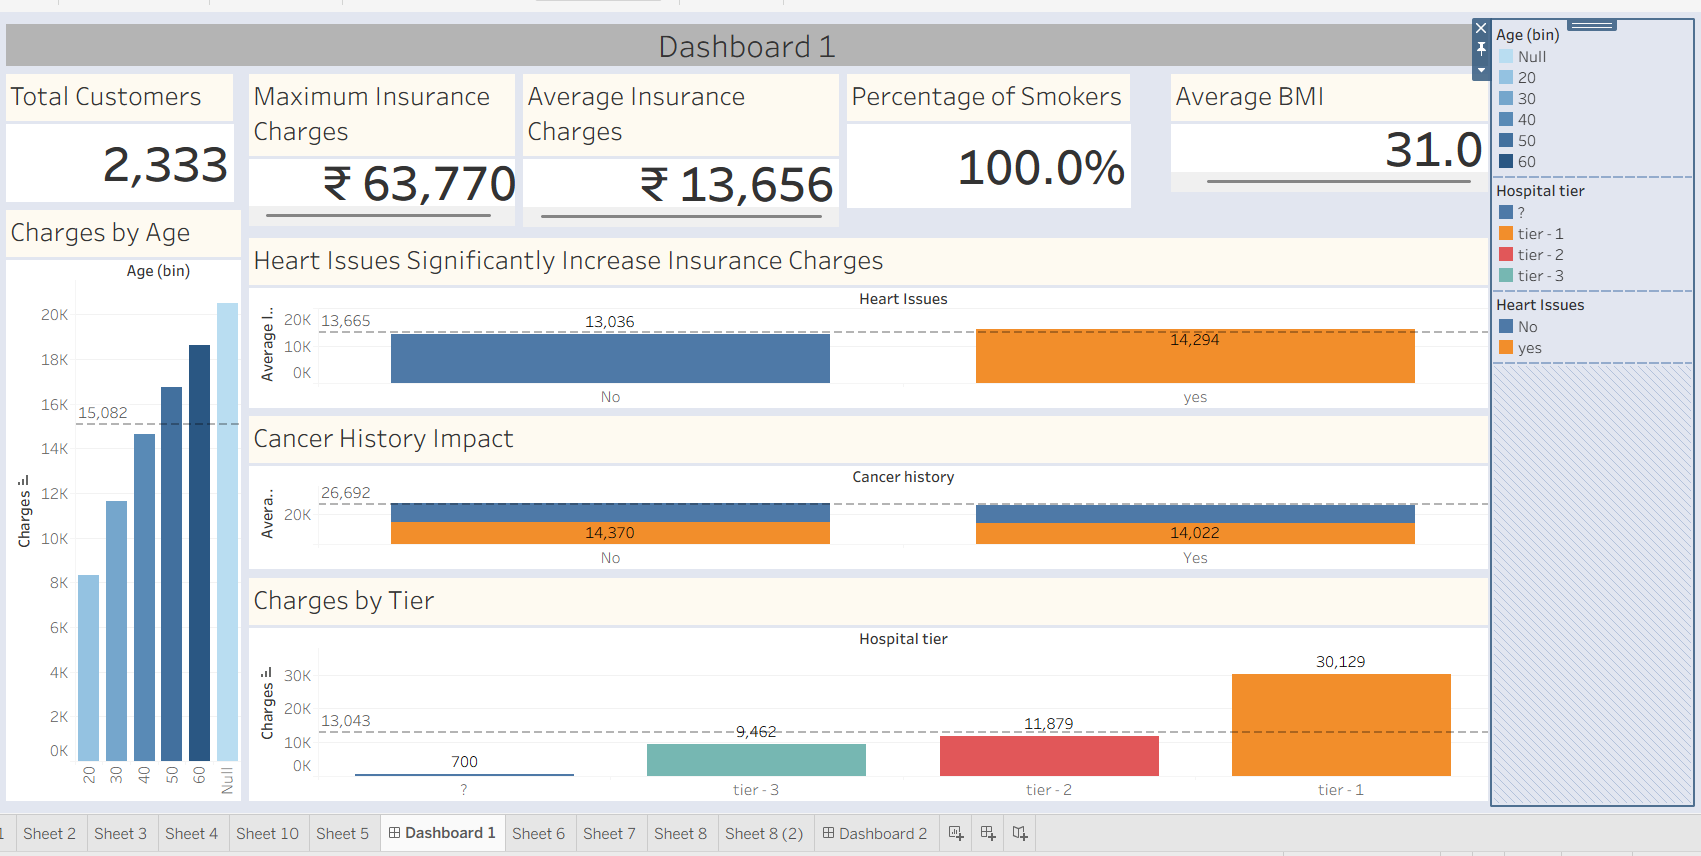

The dashboard page shown, as its layout file describes it:
{"tool":"tableau","page":{"name":"Dashboard 1","canvas":[1000,1000],"units":"permille","ordinal":0},"visuals":[{"type":"title","box":[4.7,10,872.9,62.4]},{"type":"legend","title":"Sheet 6","param":"[federated.15nydx51wglzql12eo1kz03ujucb].[none:Age (bin):ok]","box":[877.6,10,117.8,194.8]},{"type":"worksheet","title":"Sheet 1","mark":"Automatic","box":[4.7,72.4,167,169.8]},{"type":"worksheet","title":"Sheet 3","mark":"Automatic","box":[171.7,72.4,203.3,204.7]},{"type":"worksheet","title":"Sheet 2","mark":"Automatic","box":[374.9,72.4,251.3,204.7]},{"type":"worksheet","title":"Sheet 5","mark":"Automatic","box":[626.2,72.4,251.3,204.7]},{"type":"legend","title":"Sheet 7","param":"[federated.15nydx51wglzql12eo1kz03ujucb].[none:Hospital tier:nk]","box":[877.6,204.8,117.8,142.3]},{"type":"worksheet","title":"Sheet 6","mark":"Bar","rows":["charges"],"cols":["Age (bin)"],"box":[4.7,242.2,167,747.8]},{"type":"worksheet","title":"Sheet 8","mark":"Bar","rows":["charges"],"cols":["Heart Issues"],"box":[171.7,277.2,705.9,222.2]},{"type":"legend","title":"Sheet 8","param":"[federated.15nydx51wglzql12eo1kz03ujucb].[none:Heart Issues:nk]","box":[877.6,347.1,117.8,89.9]},{"type":"worksheet","title":"Sheet 8 (2)","mark":"Bar","rows":["charges"],"cols":["Cancer history"],"box":[171.7,499.4,705.9,202.2]},{"type":"worksheet","title":"Sheet 7","mark":"Bar","rows":["charges"],"cols":["Hospital tier"],"box":[171.7,701.6,705.9,288.4]}]}

Visuals, with their boxes on the dashboard's canvas, which has no fixed pixel size, in thousandths of its width and height (x1, y1, x2, y2). These are canvas units, not pixel positions in the 1701x856 screenshot, which may show the page scaled, cropped or inside an application window:
title: x1=5, y1=10, x2=878, y2=72
"Sheet 6" legend: x1=878, y1=10, x2=995, y2=205
"Sheet 1" worksheet: x1=5, y1=72, x2=172, y2=242
"Sheet 3" worksheet: x1=172, y1=72, x2=375, y2=277
"Sheet 2" worksheet: x1=375, y1=72, x2=626, y2=277
"Sheet 5" worksheet: x1=626, y1=72, x2=878, y2=277
"Sheet 7" legend: x1=878, y1=205, x2=995, y2=347
"Sheet 6" worksheet (Bar marks): x1=5, y1=242, x2=172, y2=990
"Sheet 8" worksheet (Bar marks): x1=172, y1=277, x2=878, y2=499
"Sheet 8" legend: x1=878, y1=347, x2=995, y2=437
"Sheet 8 (2)" worksheet (Bar marks): x1=172, y1=499, x2=878, y2=702
"Sheet 7" worksheet (Bar marks): x1=172, y1=702, x2=878, y2=990
